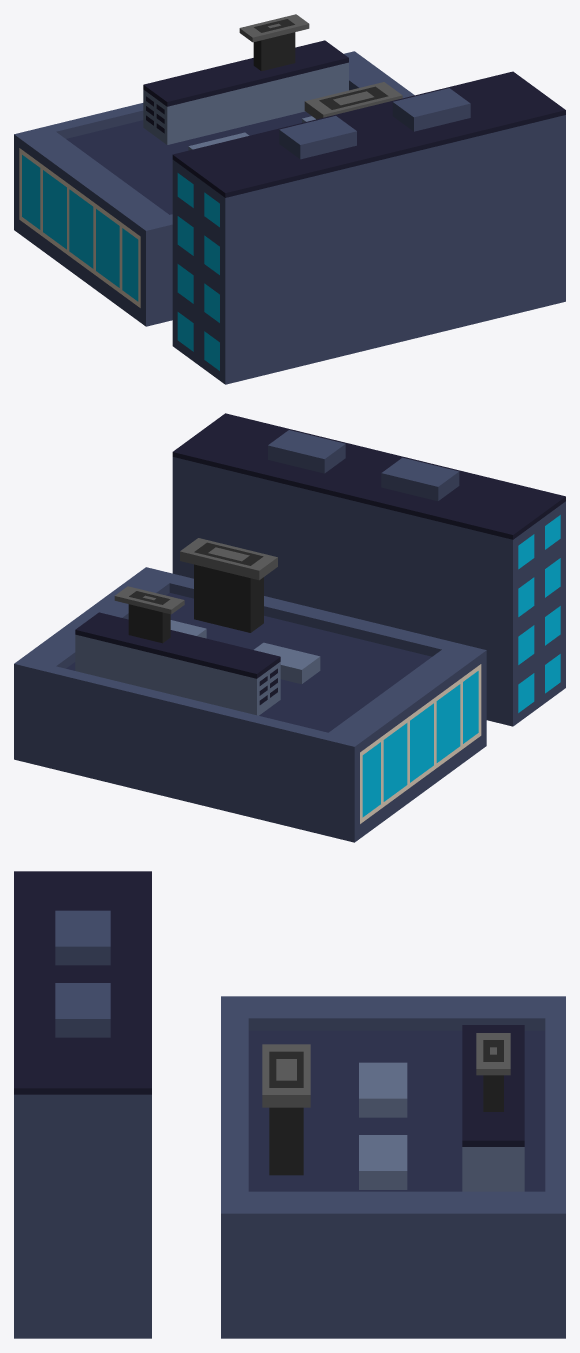
The model's file is lab.glb.
3 views of the same model, one above another, from view 1: azimuth 30°, elevation 25°; view 2: azimuth 150°, elevation 25°; view 3: azimuth 270°, elevation 25° (orthographic). The views are drawn at different scales.
Visible parts, largest first — view 1: Building03; view 2: Building03; view 3: Building03.
Part boxes in pixels (x1,y1,x2,y2): Building03: [14, 14, 565, 384]; Building03: [14, 413, 565, 842]; Building03: [14, 871, 565, 1338].
Bounding box in the file's own units: 12.03 × 6.95 × 12.93.
Materials: 1 (1 with a texture image).
